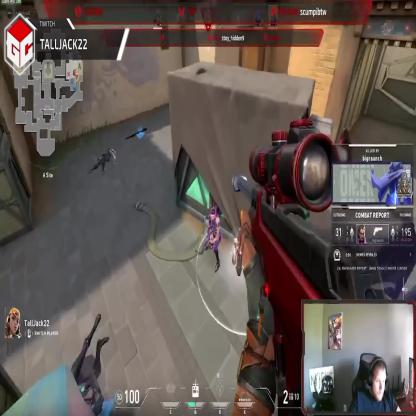enemy: (206, 204, 222, 272)
enemy_head: (210, 208, 216, 222)
